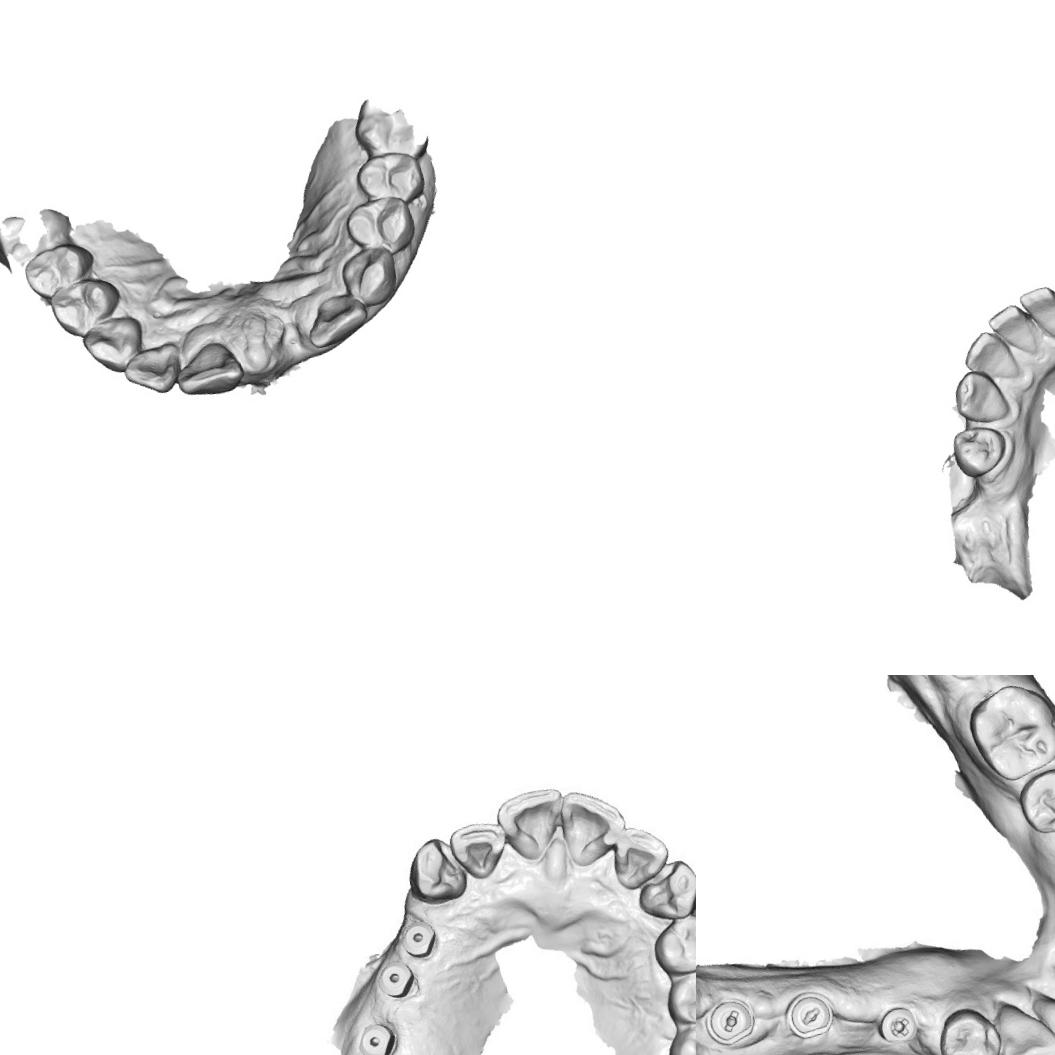canine: (78, 310, 149, 380), (403, 833, 469, 906), (334, 242, 402, 312), (984, 989, 1055, 1055), (632, 856, 696, 924), (948, 364, 1011, 427)
implant: (351, 1016, 403, 1055), (374, 956, 414, 998), (398, 919, 440, 959)
implant_minus: (775, 976, 849, 1055), (696, 985, 767, 1055)
implant_plus: (862, 989, 929, 1055)
incisor: (492, 781, 574, 870), (552, 784, 632, 870), (169, 335, 249, 403), (603, 818, 675, 892), (300, 288, 375, 352), (446, 816, 514, 883), (957, 324, 1023, 389), (117, 342, 180, 401), (983, 299, 1042, 362), (1016, 283, 1055, 344), (1033, 977, 1055, 1055)
molar: (963, 675, 1055, 785), (345, 86, 435, 170), (0, 200, 78, 267)
premolar: (340, 188, 425, 261), (42, 272, 126, 340), (346, 145, 428, 210), (18, 238, 101, 301), (948, 418, 1012, 481), (933, 1000, 1004, 1055), (1012, 757, 1055, 840), (647, 910, 696, 978), (661, 962, 696, 1030)
